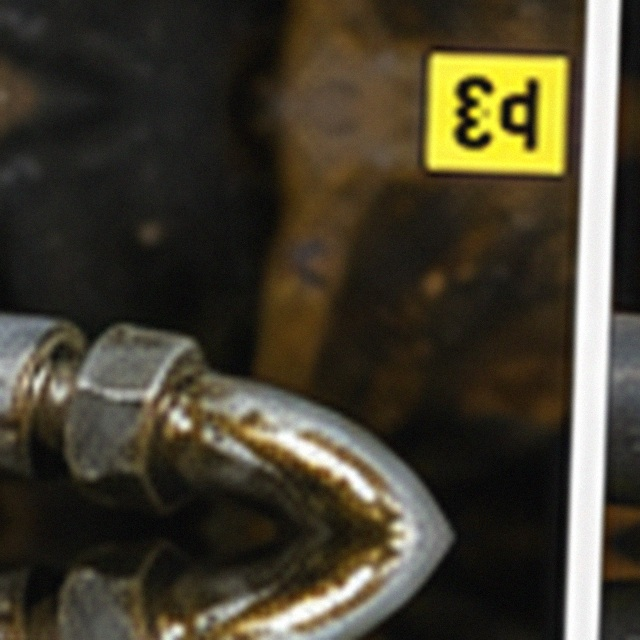hydraulic_oil_leak: (183, 205, 427, 456)
